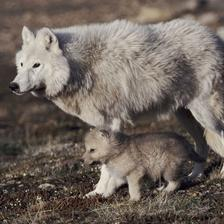WOLF: (10, 24, 224, 131)
